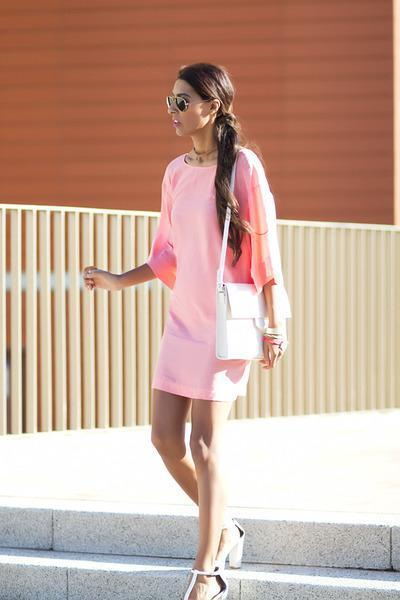bag: (212, 252, 277, 371)
dress: (135, 154, 276, 402)
shoe: (179, 564, 227, 599)
sunglass: (175, 84, 203, 111)
